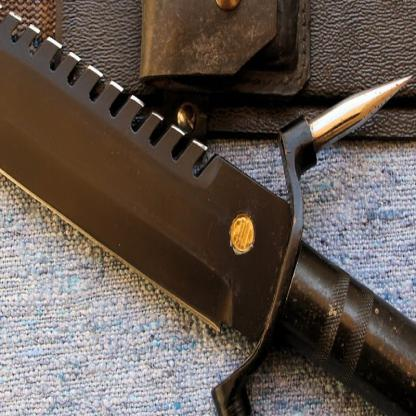knife: (0, 0, 275, 322)
